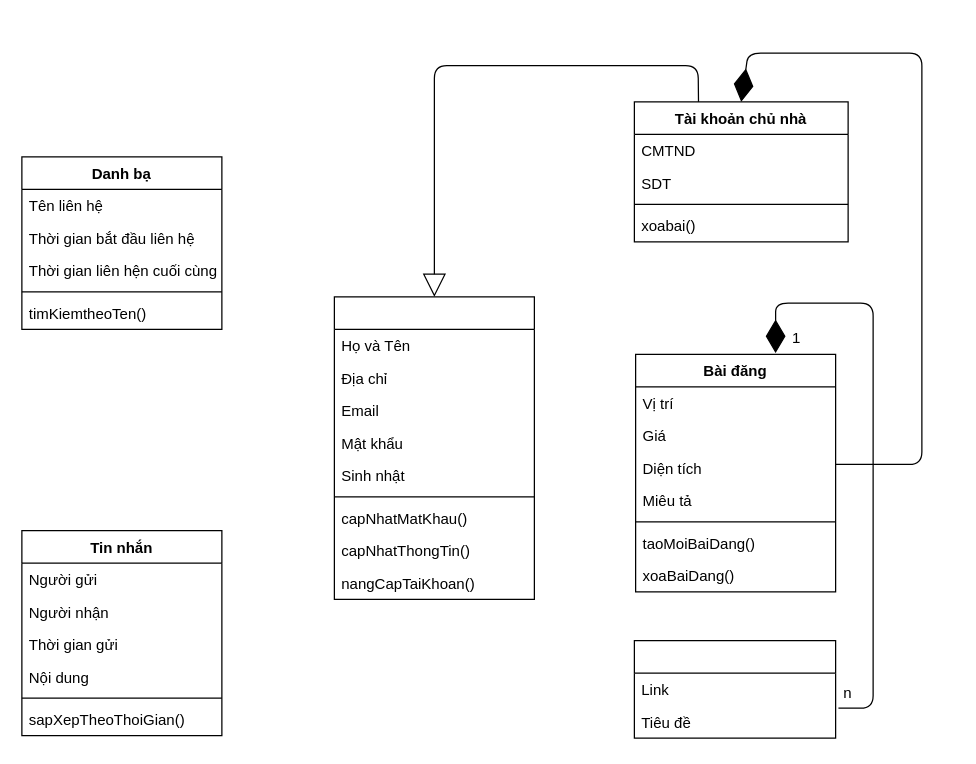
This 976x764 diagram has some shape labels left out. The box of each missing label's shape, as (x1, y1, x2, y2) in pixels:
Tài khoản: (333, 296, 534, 599)
Ảnh: (633, 639, 836, 738)
